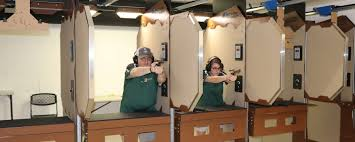gun: (228, 67, 245, 81), (154, 57, 166, 70)
